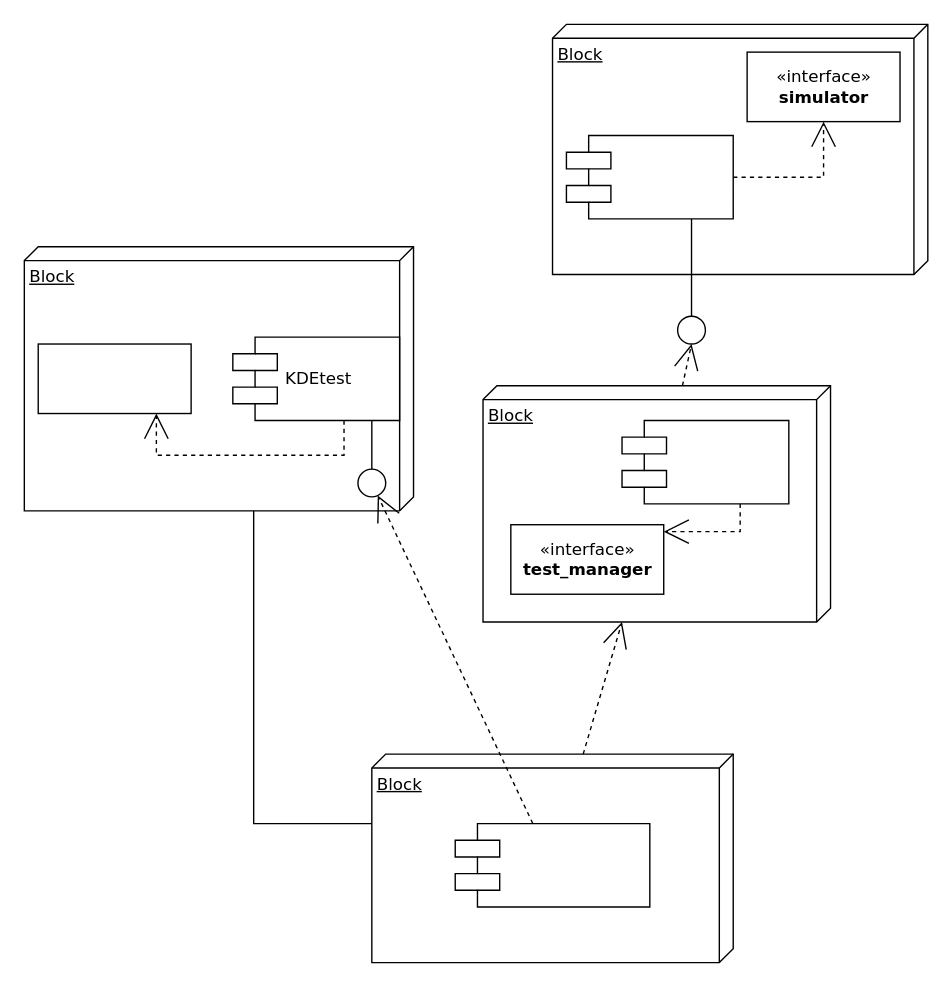
The diagram is 952 pixels wide and 987 high, and some of its shapes have lost their labels. The shapes that lost their labels are listed below. From the top down, each one's centre as x and y in pixels, then its label:
At pixel 649 176: "GRAS".
At pixel 114 378: "«interface» test".
At pixel 705 461: "several GPUs".
At pixel 552 864: "Genetic algorithm".
